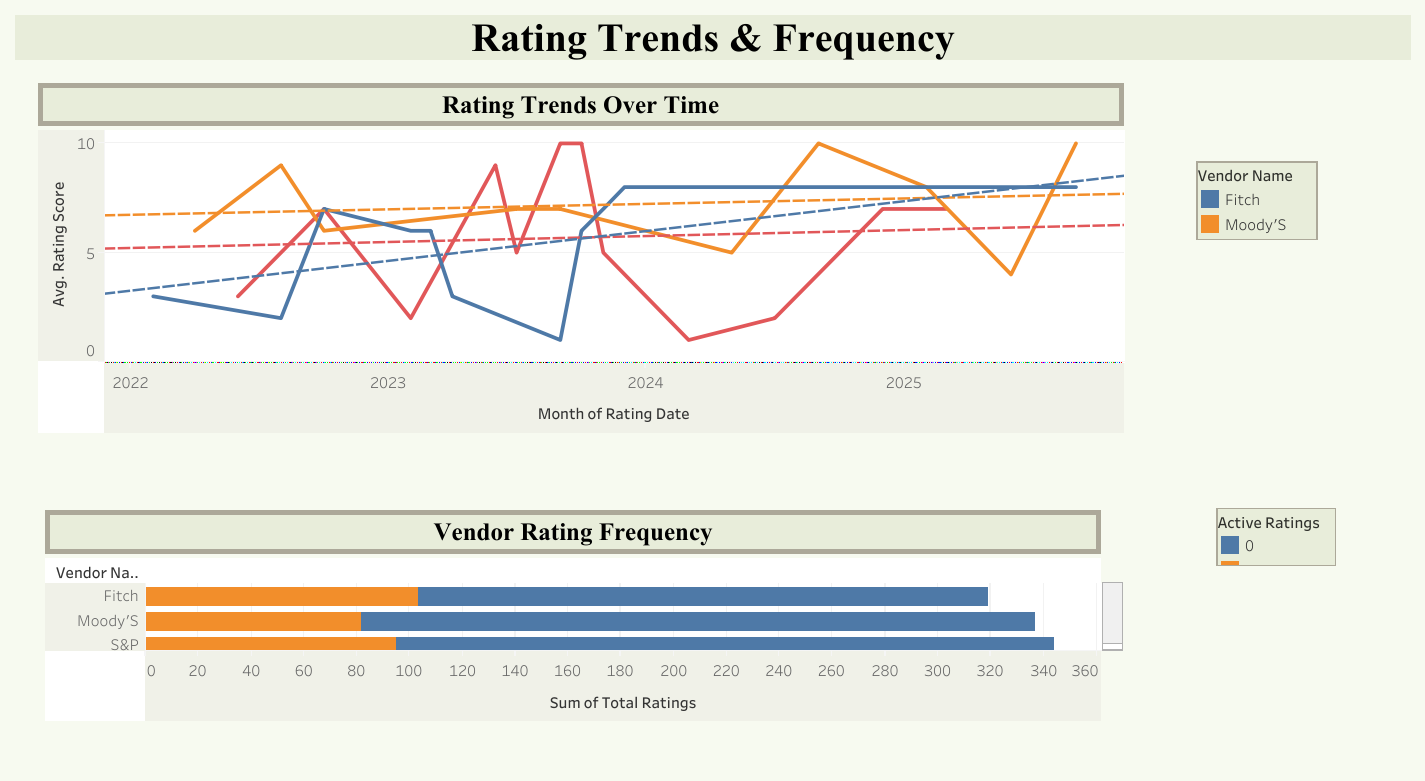

This screenshot's page, from the dashboard's own definition file:
{"tool":"tableau","page":{"name":"Rating Trends & Frequency","canvas":[1000,1000],"units":"permille","ordinal":1},"visuals":[{"type":"title","box":[4.8,9.4,990.3,62.3]},{"type":"worksheet","title":"Sheet 1","mark":"Automatic","rows":["rating_score"],"cols":["rating_date"],"box":[25.9,105.8,762.2,447.7]},{"type":"legend","title":"Sheet 1","param":"[federated.1f2xbww1778x8z18adtso1bdj9c0].[none:vendor_name:nk]","box":[838.9,206.8,84.5,132.8]},{"type":"legend","title":"Sheet 2","param":"[federated.1f2xbww1778x8z18adtso1bdj9c0].[none:active_ratings:ok]","box":[852.8,648.6,84.5,104.6]},{"type":"worksheet","title":"Sheet 2","mark":"Bar","rows":["vendor_name (vw_rating_frequency)"],"cols":["total_ratings"],"box":[31.4,652.2,756.2,270.3]}]}

Visuals, with their boxes on the dashboard's canvas, which has no fixed pixel size, in thousandths of its width and height (x1, y1, x2, y2). These are canvas units, not pixel positions in the 1425x781 screenshot, which may show the page scaled, cropped or inside an application window:
title: (left=5, top=9, right=995, bottom=72)
"Sheet 1" worksheet: (left=26, top=106, right=788, bottom=554)
"Sheet 1" legend: (left=839, top=207, right=923, bottom=340)
"Sheet 2" legend: (left=853, top=649, right=937, bottom=753)
"Sheet 2" worksheet (Bar marks): (left=31, top=652, right=788, bottom=922)
